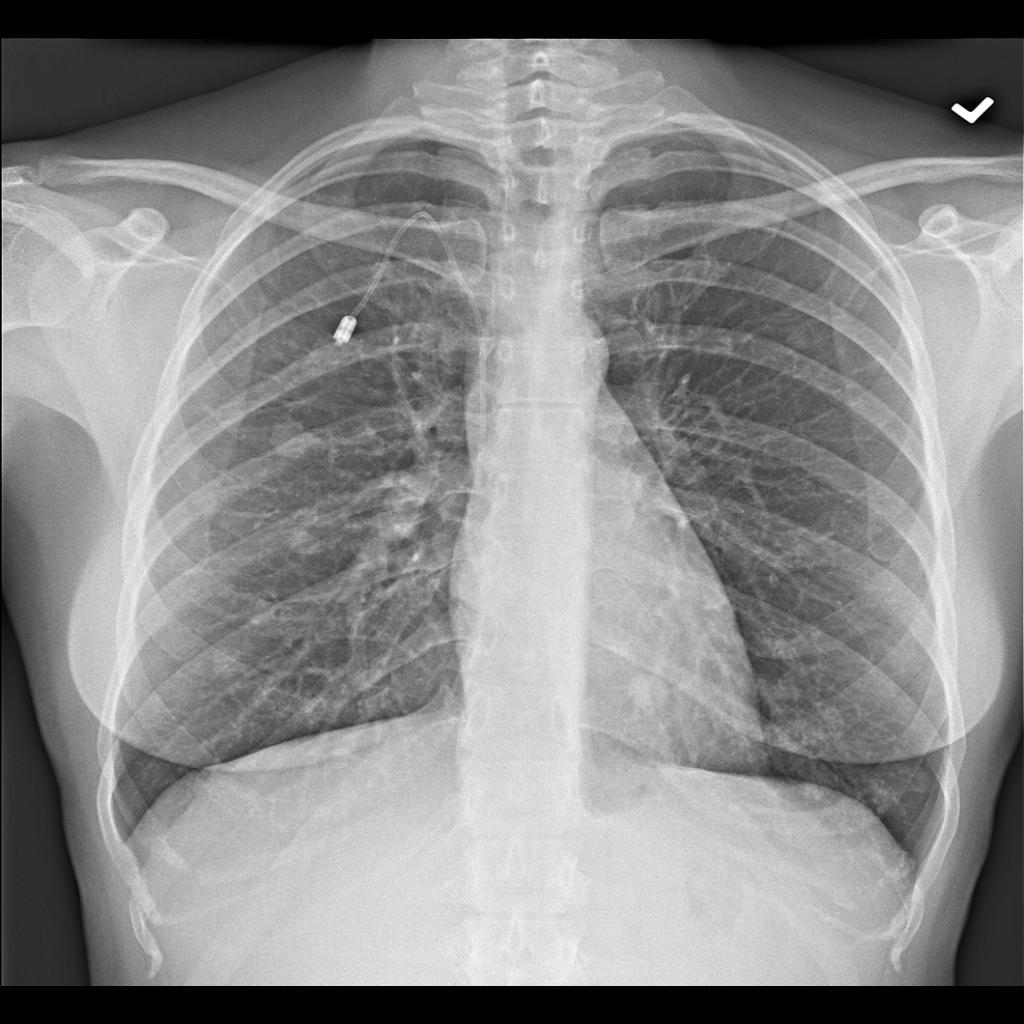Nodule: (624, 666, 678, 730), (267, 404, 313, 470), (208, 639, 246, 681)
